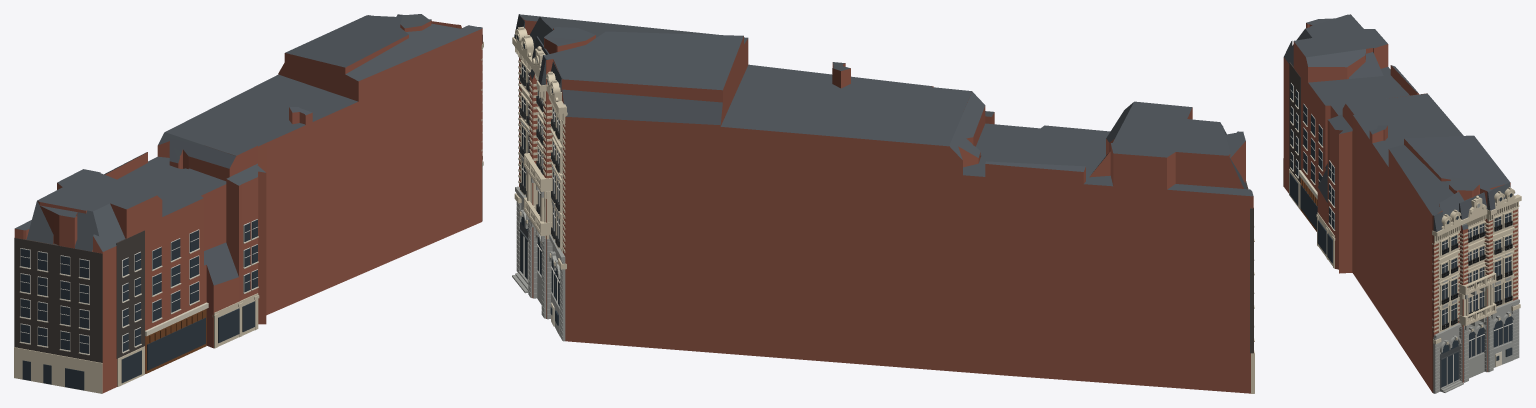
Rendered from passage-central.glb.
3 views of the same model, side by side, from view 1: azimuth 30°, elevation 25°; view 2: azimuth 150°, elevation 25°; view 3: azimuth 270°, elevation 25° (orthographic). The views are drawn at different scales.
Visible parts, largest first — view 1: passage-central; view 2: passage-central; view 3: passage-central.
Boxes of the visible parts, <box> form: passage-central: <box>14,14,483,393</box>; passage-central: <box>512,14,1254,393</box>; passage-central: <box>1283,14,1521,393</box>.
Bounding box in the file's own units: 68.61 × 25.82 × 29.94.
